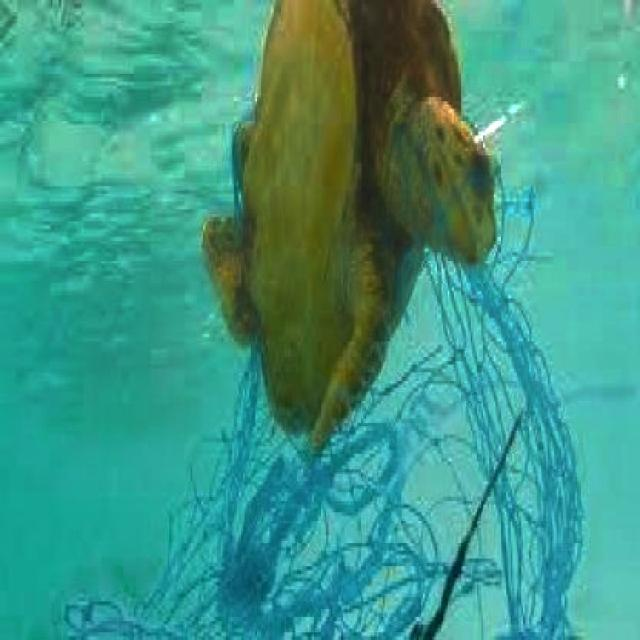net: (180, 237, 578, 640)
